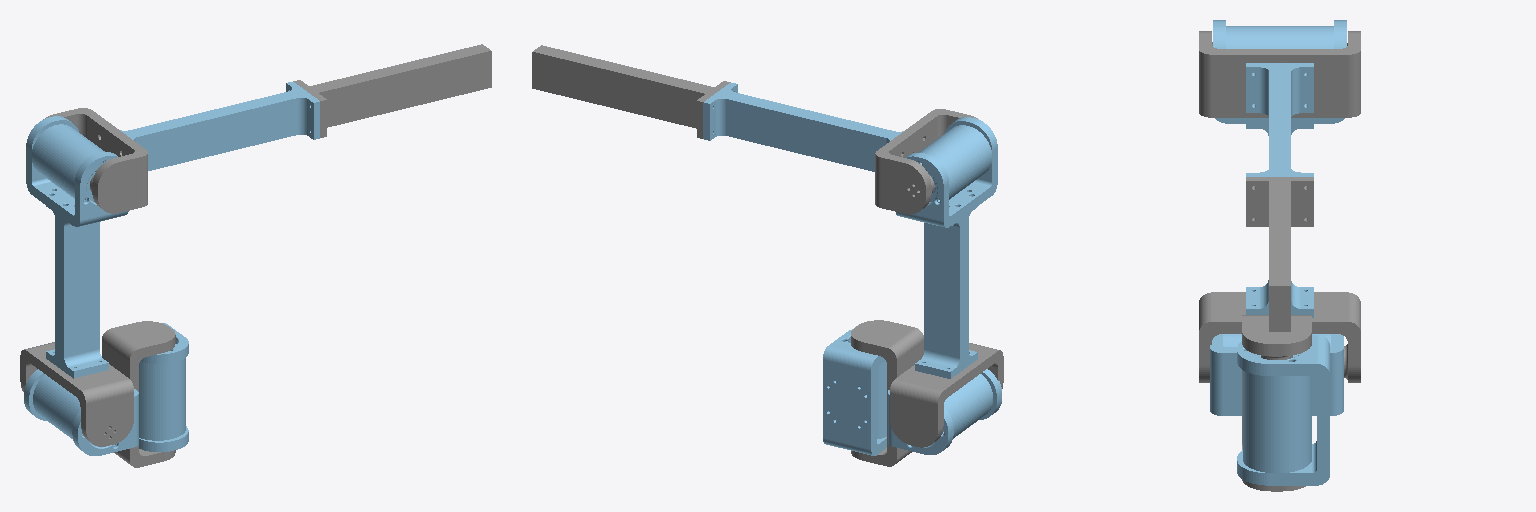
The robot description file, URDF, robot "spider_description":
<?xml version="1.0" ?>
<!-- Generated using onshape-to-robot -->
<!-- Onshape https://cad.onshape.com/documents/238e8faca9c7214bccace665/w/ac168b104948c1f839976186/e/24599102151386cccc6b72ba -->
<robot name="spider_description">
  <!-- Link motor_holder -->
  <link name="motor_holder">
    <inertial>
      <origin xyz="0 0 0" rpy="0 0 0"/>
      <mass value="0"/>
      <inertia ixx="0" ixy="0" ixz="0" iyy="0" iyz="0" izz="0"/>
    </inertial>
    <!-- Part motor_holder -->
    <visual>
      <origin xyz="-0.07 -0.027 1.38778e-17" rpy="-3.14159 -1.5708 0"/>
      <geometry>
        <mesh filename="package://spider_description/assets/motor_holder.stl"/>
      </geometry>
      <material name="motor_holder_material">
        <color rgba="0.615686 0.811765 0.929412 1"/>
      </material>
    </visual>
    <collision>
      <origin xyz="-0.07 -0.027 1.38778e-17" rpy="-3.14159 -1.5708 0"/>
      <geometry>
        <mesh filename="package://spider_description/assets/motor_holder.stl"/>
      </geometry>
    </collision>
    <!-- Part motor_model -->
    <visual>
      <origin xyz="-1.38778e-17 -0.106278 -0.108" rpy="0 -0 -1.5708"/>
      <geometry>
        <mesh filename="package://spider_description/assets/motor_model.stl"/>
      </geometry>
      <material name="motor_model_material">
        <color rgba="0.615686 0.811765 0.929412 1"/>
      </material>
    </visual>
    <collision>
      <origin xyz="-1.38778e-17 -0.106278 -0.108" rpy="0 -0 -1.5708"/>
      <geometry>
        <mesh filename="package://spider_description/assets/motor_model.stl"/>
      </geometry>
    </collision>
  </link>
  <!-- Link moving_frame_l -->
  <link name="moving_frame_l">
    <inertial>
      <origin xyz="0.166888 -0.000702224 0.11374" rpy="0 0 0"/>
      <mass value="9.51769"/>
      <inertia ixx="0.0949959" ixy="0.000393819" ixz="0.000302419" iyy="0.1134" iyz="-1.35219e-06" izz="0.10408"/>
    </inertial>
    <!-- Part motor_holder_2 -->
    <visual>
      <origin xyz="0.149 -0.000161803 0.04355" rpy="-1.4383e-16 -4.73317e-30 -1.5708"/>
      <geometry>
        <mesh filename="package://spider_description/assets/motor_holder.stl"/>
      </geometry>
      <material name="motor_holder_2_material">
        <color rgba="0.615686 0.811765 0.929412 1"/>
      </material>
    </visual>
    <collision>
      <origin xyz="0.149 -0.000161803 0.04355" rpy="-1.4383e-16 -4.73317e-30 -1.5708"/>
      <geometry>
        <mesh filename="package://spider_description/assets/motor_holder.stl"/>
      </geometry>
    </collision>
    <!-- Part motor_model_2 -->
    <visual>
      <origin xyz="0.228278 0.107838 0.11355" rpy="1.5708 1.5708 0"/>
      <geometry>
        <mesh filename="package://spider_description/assets/motor_model.stl"/>
      </geometry>
      <material name="motor_model_2_material">
        <color rgba="0.615686 0.811765 0.929412 1"/>
      </material>
    </visual>
    <collision>
      <origin xyz="0.228278 0.107838 0.11355" rpy="1.5708 1.5708 0"/>
      <geometry>
        <mesh filename="package://spider_description/assets/motor_model.stl"/>
      </geometry>
    </collision>
    <!-- Part moving_frame_r -->
    <visual>
      <origin xyz="-0.08 0.07 0.11365" rpy="1.5708 1.5708 0"/>
      <geometry>
        <mesh filename="package://spider_description/assets/moving_frame_r.stl"/>
      </geometry>
      <material name="moving_frame_r_material">
        <color rgba="0.647059 0.647059 0.647059 1"/>
      </material>
    </visual>
    <collision>
      <origin xyz="-0.08 0.07 0.11365" rpy="1.5708 1.5708 0"/>
      <geometry>
        <mesh filename="package://spider_description/assets/moving_frame_r.stl"/>
      </geometry>
    </collision>
    <!-- Part moving_frame_l -->
    <visual>
      <origin xyz="-0.08 0.07 0.11345" rpy="1.5708 1.5708 0"/>
      <geometry>
        <mesh filename="package://spider_description/assets/moving_frame_l.stl"/>
      </geometry>
      <material name="moving_frame_l_material">
        <color rgba="0.647059 0.647059 0.647059 1"/>
      </material>
    </visual>
    <collision>
      <origin xyz="-0.08 0.07 0.11345" rpy="1.5708 1.5708 0"/>
      <geometry>
        <mesh filename="package://spider_description/assets/moving_frame_l.stl"/>
      </geometry>
    </collision>
  </link>
  <!-- Link moving_frame_l_2 -->
  <link name="moving_frame_l_2">
    <inertial>
      <origin xyz="-0.00012427 -0.438975 -0.113249" rpy="0 0 0"/>
      <mass value="12.6662"/>
      <inertia ixx="0.888548" ixy="-0.000174694" ixz="3.56443e-07" iyy="0.0992591" iyz="0.00208744" izz="0.821886"/>
    </inertial>
    <!-- Part motor_model_3 -->
    <visual>
      <origin xyz="-0.000161803 -0.668278 -0.22155" rpy="-3.07249e-15 -2.42575e-15 -2.5235e-14"/>
      <geometry>
        <mesh filename="package://spider_description/assets/motor_model.stl"/>
      </geometry>
      <material name="motor_model_3_material">
        <color rgba="0.615686 0.811765 0.929412 1"/>
      </material>
    </visual>
    <collision>
      <origin xyz="-0.000161803 -0.668278 -0.22155" rpy="-3.07249e-15 -2.42575e-15 -2.5235e-14"/>
      <geometry>
        <mesh filename="package://spider_description/assets/motor_model.stl"/>
      </geometry>
    </collision>
    <!-- Part femur__limb_legnth_0_4_meter -->
    <visual>
      <origin xyz="-0.000161803 -0.562 -0.11355" rpy="-1.5708 -1.5708 0"/>
      <geometry>
        <mesh filename="package://spider_description/assets/femur__limb_legnth_0_4_meter.stl"/>
      </geometry>
      <material name="femur__limb_legnth_0_4_meter_material">
        <color rgba="0.615686 0.811765 0.929412 1"/>
      </material>
    </visual>
    <collision>
      <origin xyz="-0.000161803 -0.562 -0.11355" rpy="-1.5708 -1.5708 0"/>
      <geometry>
        <mesh filename="package://spider_description/assets/femur__limb_legnth_0_4_meter.stl"/>
      </geometry>
    </collision>
    <!-- Part moving_frame_l_2 -->
    <visual>
      <origin xyz="-0.07 0.08 -0.11345" rpy="3.14159 -1.5708 0"/>
      <geometry>
        <mesh filename="package://spider_description/assets/moving_frame_l.stl"/>
      </geometry>
      <material name="moving_frame_l_2_material">
        <color rgba="0.647059 0.647059 0.647059 1"/>
      </material>
    </visual>
    <collision>
      <origin xyz="-0.07 0.08 -0.11345" rpy="3.14159 -1.5708 0"/>
      <geometry>
        <mesh filename="package://spider_description/assets/moving_frame_l.stl"/>
      </geometry>
    </collision>
    <!-- Part moving_frame_r_2 -->
    <visual>
      <origin xyz="-0.07 0.08 -0.11365" rpy="3.14159 -1.5708 0"/>
      <geometry>
        <mesh filename="package://spider_description/assets/moving_frame_r.stl"/>
      </geometry>
      <material name="moving_frame_r_2_material">
        <color rgba="0.647059 0.647059 0.647059 1"/>
      </material>
    </visual>
    <collision>
      <origin xyz="-0.07 0.08 -0.11365" rpy="3.14159 -1.5708 0"/>
      <geometry>
        <mesh filename="package://spider_description/assets/moving_frame_r.stl"/>
      </geometry>
    </collision>
    <!-- Part motor_holder_3 -->
    <visual>
      <origin xyz="-0.0701618 -0.589 -0.11355" rpy="3.14159 -1.5708 0"/>
      <geometry>
        <mesh filename="package://spider_description/assets/motor_holder.stl"/>
      </geometry>
      <material name="motor_holder_3_material">
        <color rgba="0.615686 0.811765 0.929412 1"/>
      </material>
    </visual>
    <collision>
      <origin xyz="-0.0701618 -0.589 -0.11355" rpy="3.14159 -1.5708 0"/>
      <geometry>
        <mesh filename="package://spider_description/assets/motor_holder.stl"/>
      </geometry>
    </collision>
  </link>
  <!-- Link moving_frame_l_3 -->
  <link name="moving_frame_l_3">
    <inertial>
      <origin xyz="0.468863 0.00011439 0.113731" rpy="0 0 0"/>
      <mass value="10.0269"/>
      <inertia ixx="0.0561408" ixy="-0.000188903" ixz="0.000849629" iyy="1.36864" iyz="1.27622e-07" izz="1.33351"/>
    </inertial>
    <!-- Part moving_frame_r_3 -->
    <visual>
      <origin xyz="-0.08 0.07 0.11365" rpy="1.5708 1.5708 0"/>
      <geometry>
        <mesh filename="package://spider_description/assets/moving_frame_r.stl"/>
      </geometry>
      <material name="moving_frame_r_3_material">
        <color rgba="0.647059 0.647059 0.647059 1"/>
      </material>
    </visual>
    <collision>
      <origin xyz="-0.08 0.07 0.11365" rpy="1.5708 1.5708 0"/>
      <geometry>
        <mesh filename="package://spider_description/assets/moving_frame_r.stl"/>
      </geometry>
    </collision>
    <!-- Part toe__limb_legnth_0_5_meter -->
    <visual>
      <origin xyz="0.682 0.000161803 0.11355" rpy="5.843e-28 -1.5708 0"/>
      <geometry>
        <mesh filename="package://spider_description/assets/toe__limb_legnth_0_5_meter.stl"/>
      </geometry>
      <material name="toe__limb_legnth_0_5_meter_material">
        <color rgba="0.647059 0.647059 0.647059 1"/>
      </material>
    </visual>
    <collision>
      <origin xyz="0.682 0.000161803 0.11355" rpy="5.843e-28 -1.5708 0"/>
      <geometry>
        <mesh filename="package://spider_description/assets/toe__limb_legnth_0_5_meter.stl"/>
      </geometry>
    </collision>
    <!-- Part femur__limb_legnth_0_5_meter -->
    <visual>
      <origin xyz="0.662 0.000161803 0.11355" rpy="1.20737e-15 -1.5708 0"/>
      <geometry>
        <mesh filename="package://spider_description/assets/femur__limb_legnth_0_5_meter.stl"/>
      </geometry>
      <material name="femur__limb_legnth_0_5_meter_material">
        <color rgba="0.615686 0.811765 0.929412 1"/>
      </material>
    </visual>
    <collision>
      <origin xyz="0.662 0.000161803 0.11355" rpy="1.20737e-15 -1.5708 0"/>
      <geometry>
        <mesh filename="package://spider_description/assets/femur__limb_legnth_0_5_meter.stl"/>
      </geometry>
    </collision>
    <!-- Part moving_frame_l_3 -->
    <visual>
      <origin xyz="-0.08 0.07 0.11345" rpy="1.5708 1.5708 0"/>
      <geometry>
        <mesh filename="package://spider_description/assets/moving_frame_l.stl"/>
      </geometry>
      <material name="moving_frame_l_3_material">
        <color rgba="0.647059 0.647059 0.647059 1"/>
      </material>
    </visual>
    <collision>
      <origin xyz="-0.08 0.07 0.11345" rpy="1.5708 1.5708 0"/>
      <geometry>
        <mesh filename="package://spider_description/assets/moving_frame_l.stl"/>
      </geometry>
    </collision>
  </link>
  <!-- Joint from moving_frame_l_2 to moving_frame_l_3 -->
  <joint name="1-3" type="revolute">
    <origin xyz="-0.000161803 -0.669 -0.22755" rpy="6.87867e-17 2.6966e-15 3.14159"/>
    <parent link="moving_frame_l_2"/>
    <child link="moving_frame_l_3"/>
    <axis xyz="0 0 1"/>
    <limit effort="10" velocity="10" lower="0" upper="3.14159"/>
  </joint>
  <!-- Joint from moving_frame_l to moving_frame_l_2 -->
  <joint name="1-2" type="revolute">
    <origin xyz="0.229 0.107838 0.11355" rpy="-1.5708 1.4383e-16 -3.64292e-16"/>
    <parent link="moving_frame_l"/>
    <child link="moving_frame_l_2"/>
    <axis xyz="0 0 1"/>
    <limit effort="10" velocity="10" lower="-2.4869e-14" upper="3.14159"/>
  </joint>
  <!-- Joint from motor_holder to moving_frame_l -->
  <joint name="1-1" type="revolute">
    <origin xyz="-2.80687e-17 -0.107 -0.114" rpy="-6.07154e-16 1.44907e-19 -3.14159"/>
    <parent link="motor_holder"/>
    <child link="moving_frame_l"/>
    <axis xyz="0 0 1"/>
    <limit effort="10" velocity="10" lower="0" upper="3.14159"/>
  </joint>
</robot>

--- What the picture shows (computed from the rendered views, not written in the file) ---
The picture shows the robot from 3 angles, left to right: view 1: azimuth 30°, elevation 25°; view 2: azimuth 150°, elevation 25°; view 3: azimuth 270°, elevation 25°; orthographic projection.
Robot: spider_description — 4 links, 3 joints (3 revolute); root link motor_holder; default pose: every joint at zero.
Links seen in each view (by area): view 1: moving_frame_l_3, moving_frame_l_2, moving_frame_l, motor_holder; view 2: moving_frame_l_3, moving_frame_l_2, moving_frame_l, motor_holder; view 3: moving_frame_l_3, motor_holder, moving_frame_l_2, moving_frame_l.
Boxes of the visible links, box(x1,y1,x2,y2) form: moving_frame_l_3: box(43, 44, 491, 213); moving_frame_l_2: box(20, 116, 133, 446); moving_frame_l: box(24, 321, 175, 467); motor_holder: box(139, 323, 188, 451); moving_frame_l_3: box(532, 45, 977, 214); moving_frame_l_2: box(890, 117, 1003, 447); moving_frame_l: box(851, 320, 1001, 466); motor_holder: box(823, 329, 886, 455); moving_frame_l_3: box(1199, 31, 1360, 331); motor_holder: box(1237, 335, 1329, 485); moving_frame_l_2: box(1199, 20, 1360, 382); moving_frame_l: box(1210, 315, 1343, 491).
Size in the robot's own frame: 1.26 by 0.3275 by 0.9126 metres.
15 mesh visuals loaded from 7 distinct referenced files (7 binary STL).
